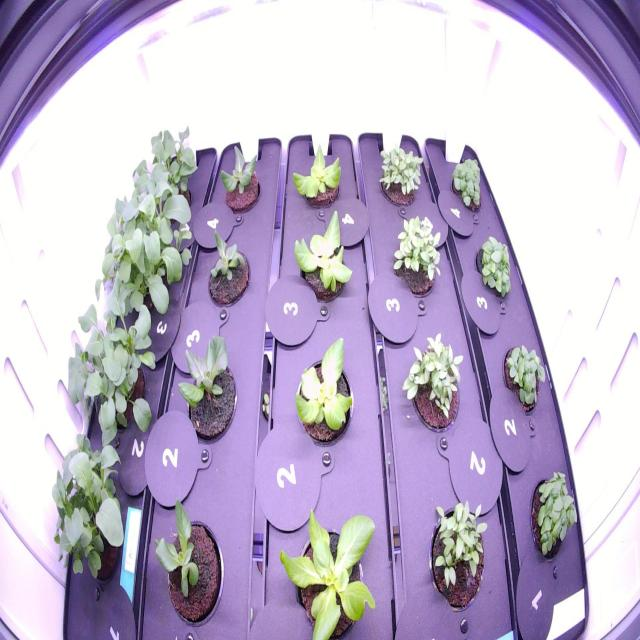germination: (396, 325, 467, 440), (423, 496, 490, 616), (389, 207, 449, 303), (372, 140, 426, 210)
young: (270, 486, 382, 640), (143, 476, 230, 637), (289, 324, 358, 464), (172, 324, 247, 449), (279, 204, 361, 310), (282, 136, 349, 218), (202, 215, 255, 312), (215, 137, 266, 220)
